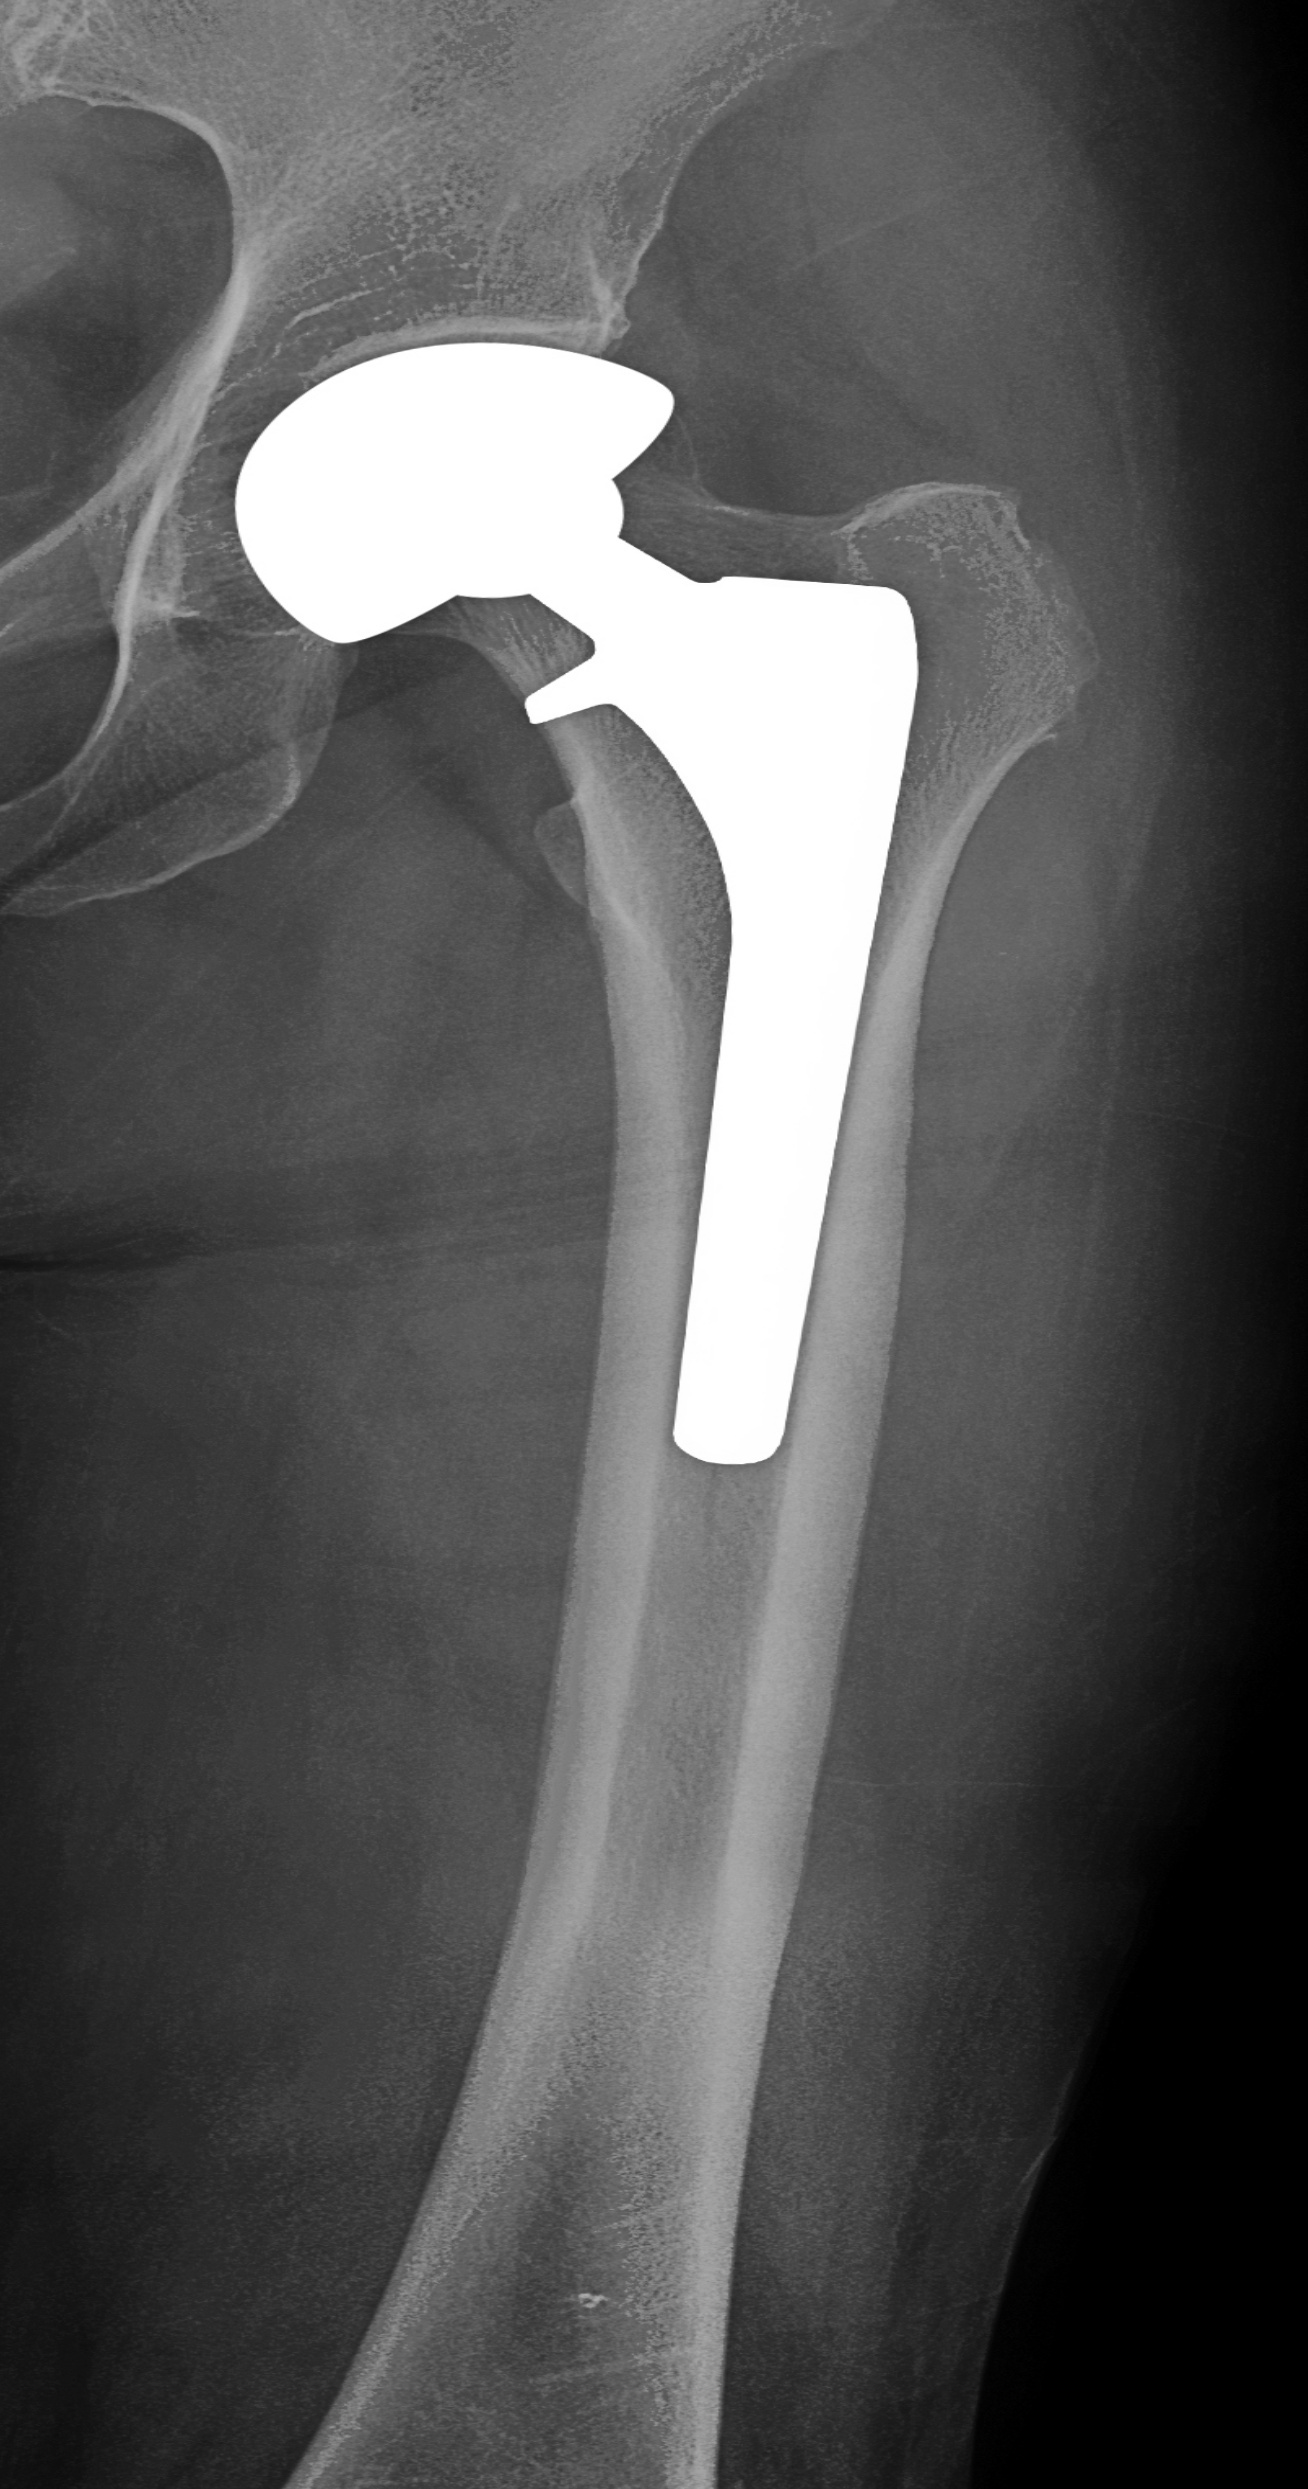Hip - APR - Zimmer: (165, 280, 959, 1551)
